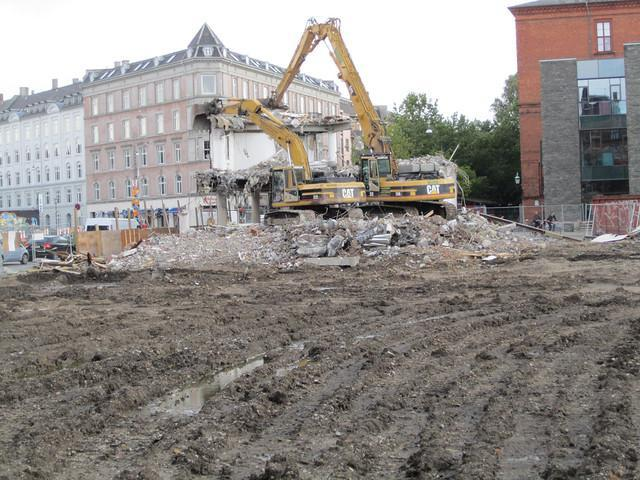EXCAVATORS: (257, 14, 459, 220), (209, 93, 366, 226)
